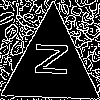N: (26, 40, 68, 78)
